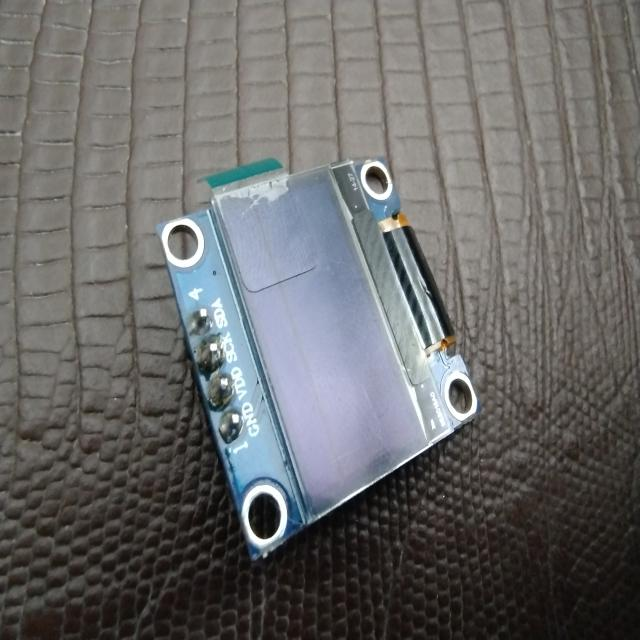oled: (150, 140, 490, 572)
